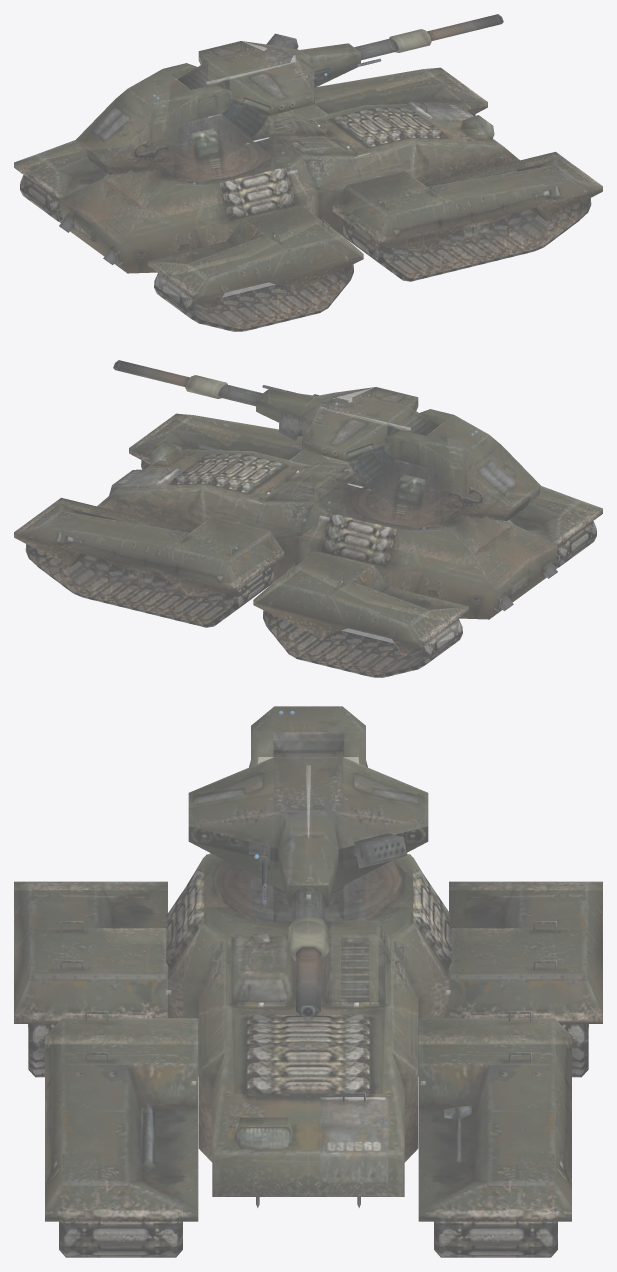
The model's file is tank.glb.
3 renders of one model, top to bottom at view 1: azimuth 30°, elevation 25°; view 2: azimuth 150°, elevation 25°; view 3: azimuth 270°, elevation 25°, orthographic. The views are drawn at different scales.
Parts seen in each view (by area): view 1: MPScorpion, Scorpion, TreadBlur; view 2: MPScorpion, Scorpion, TreadBlur; view 3: MPScorpion, Scorpion, TreadBlur.
Part boxes in pixels (bbox=[...]): MPScorpion: bbox=[14, 14, 602, 331]; Scorpion: bbox=[14, 14, 602, 331]; TreadBlur: bbox=[20, 115, 590, 331]; MPScorpion: bbox=[14, 360, 602, 677]; Scorpion: bbox=[14, 360, 602, 677]; TreadBlur: bbox=[26, 461, 596, 677]; MPScorpion: bbox=[14, 706, 602, 1257]; Scorpion: bbox=[14, 706, 602, 1256]; TreadBlur: bbox=[28, 1024, 588, 1257].
Size of the model in its own units: 331 by 135 by 236.
12 materials, 8 textured.
